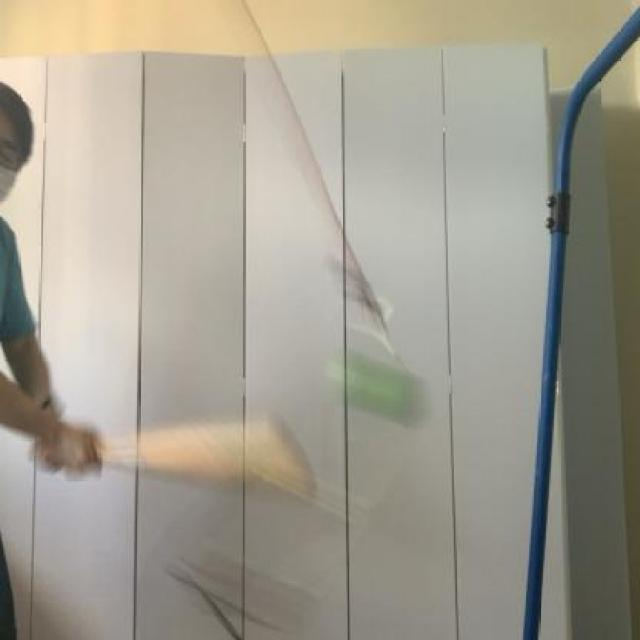baseball: (336, 342, 436, 436)
